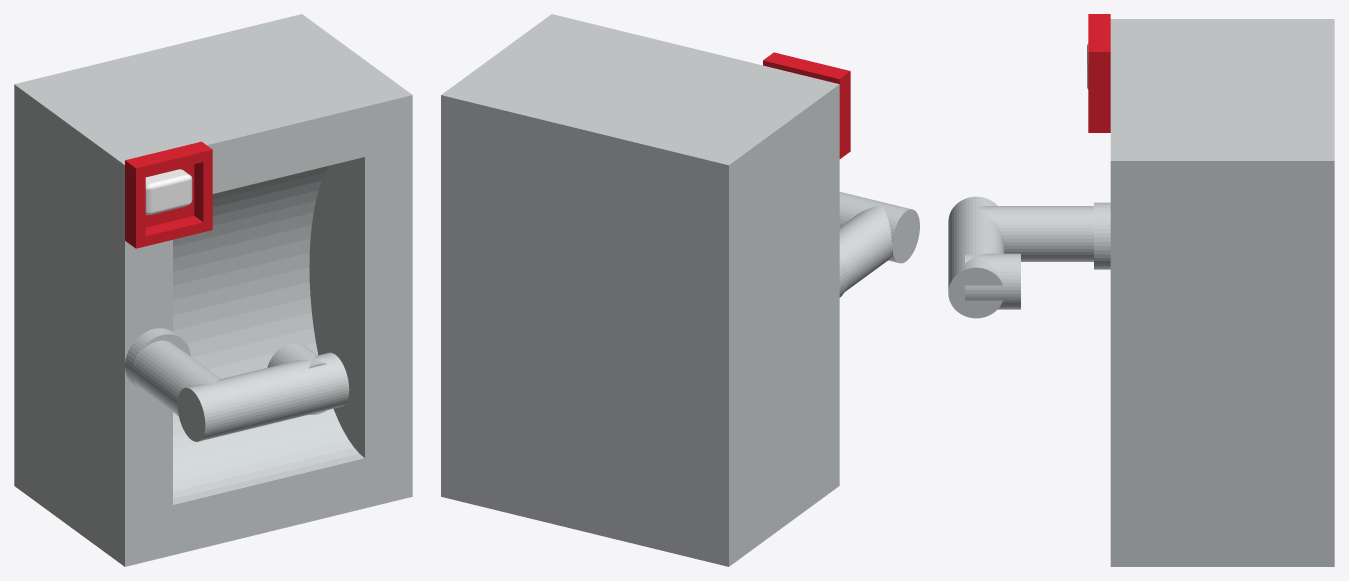
The model's file is sinksoap2.obj.
3 views of the same model, side by side, from view 1: azimuth 30°, elevation 25°; view 2: azimuth 150°, elevation 25°; view 3: azimuth 270°, elevation 25° (orthographic).
Parts seen in each view (by area): view 1: obj_0, obj_1, obj_2; view 2: obj_0, obj_1; view 3: obj_0, obj_1.
Boxes of the visible parts, x1=… form: obj_0: x1=14, y1=14, x2=412, y2=566; obj_1: x1=125, y1=141, x2=212, y2=248; obj_2: x1=145, y1=169, x2=192, y2=214; obj_0: x1=441, y1=14, x2=919, y2=566; obj_1: x1=763, y1=52, x2=850, y2=158; obj_0: x1=948, y1=19, x2=1334, y2=566; obj_1: x1=1088, y1=14, x2=1110, y2=132.
Size of the model in its own units: 30 by 40.5 by 34.5.
